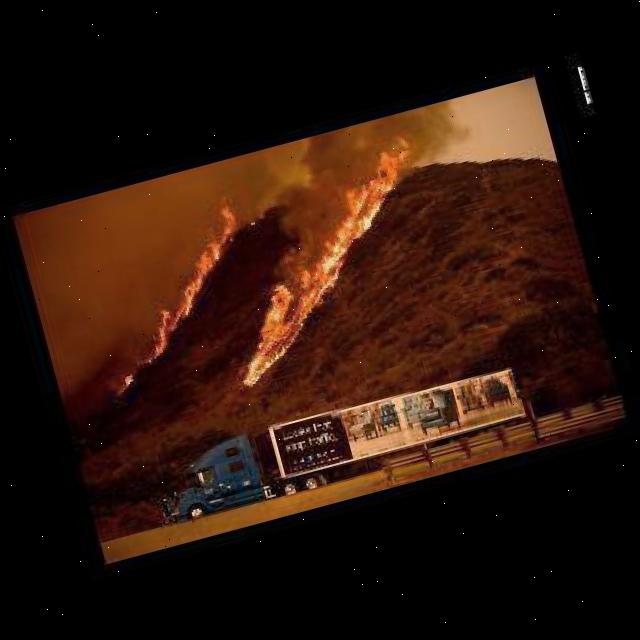fire: (117, 132, 462, 404)
